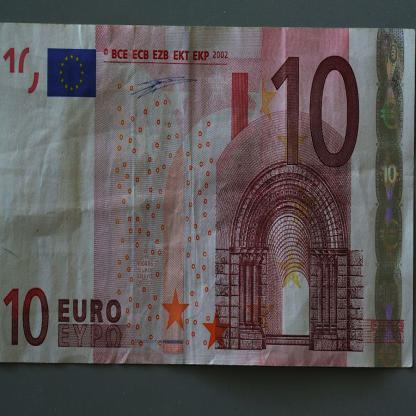euro_banknote: (3, 26, 415, 366)
